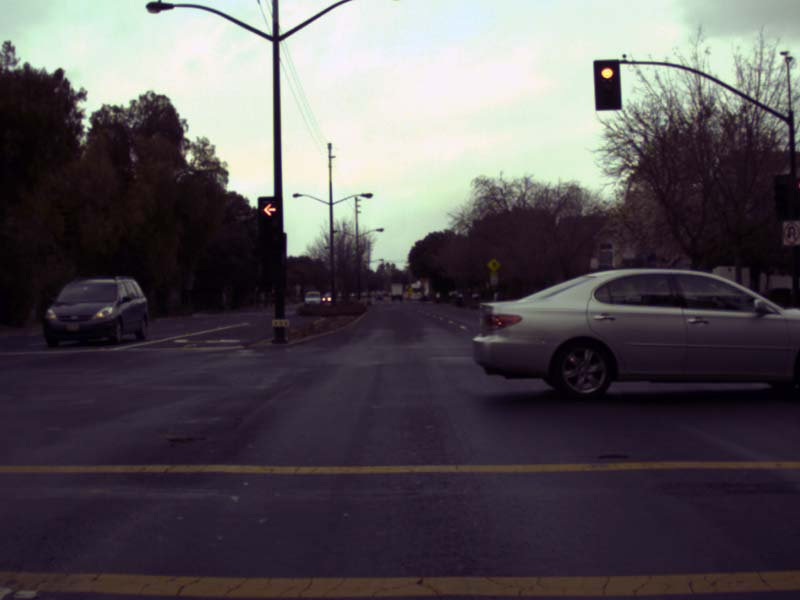Red: (258, 197, 284, 255), (593, 60, 621, 109)
